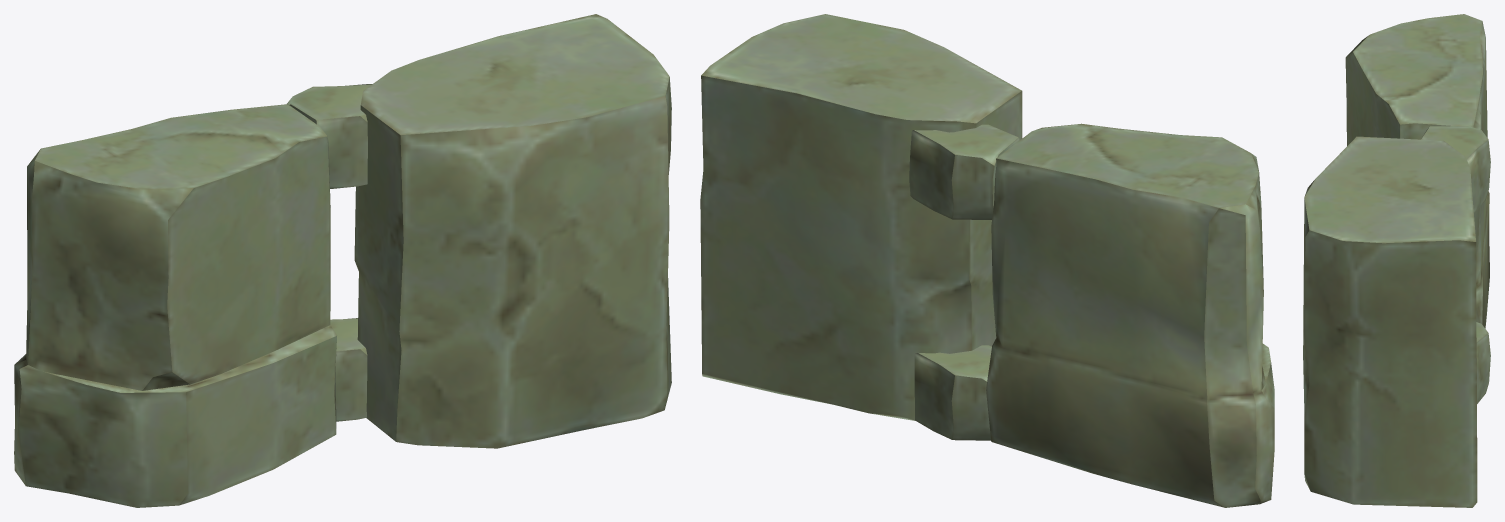
Rendered from Ruins_Wall_DMG_Edge_Bot_A.fbx.
3 renders of one model, left to right at view 1: azimuth 30°, elevation 25°; view 2: azimuth 150°, elevation 25°; view 3: azimuth 270°, elevation 25°, orthographic. The views are drawn at different scales.
Visible parts, largest first — view 1: Ruins_Wall_DMG_Edge_Bot_A; view 2: Ruins_Wall_DMG_Edge_Bot_A; view 3: Ruins_Wall_DMG_Edge_Bot_A.
Part boxes in pixels (x1,y1,x2,y2): Ruins_Wall_DMG_Edge_Bot_A: [14, 14, 671, 507]; Ruins_Wall_DMG_Edge_Bot_A: [700, 14, 1274, 507]; Ruins_Wall_DMG_Edge_Bot_A: [1303, 14, 1490, 507].
Bounding box in the file's own units: 541 × 281 × 178.
